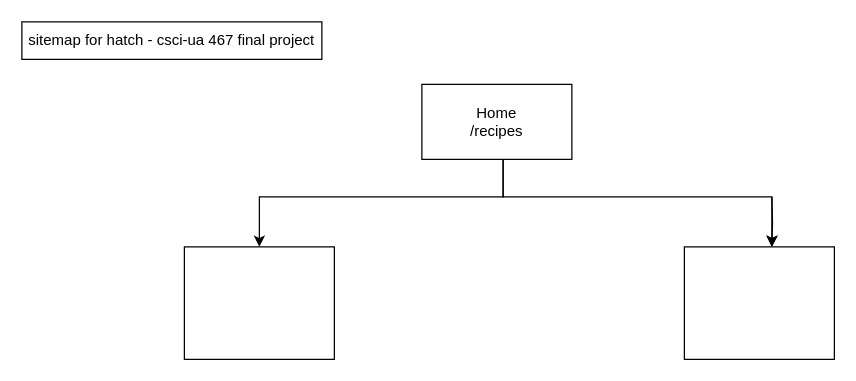
This 856x381 diagram has some shape labels left out. Each missing label, with the box of its shape:
Filter Results /recipes/query: (683, 246, 834, 359)
Specific Recipe /recipes/slug: (183, 246, 334, 359)
